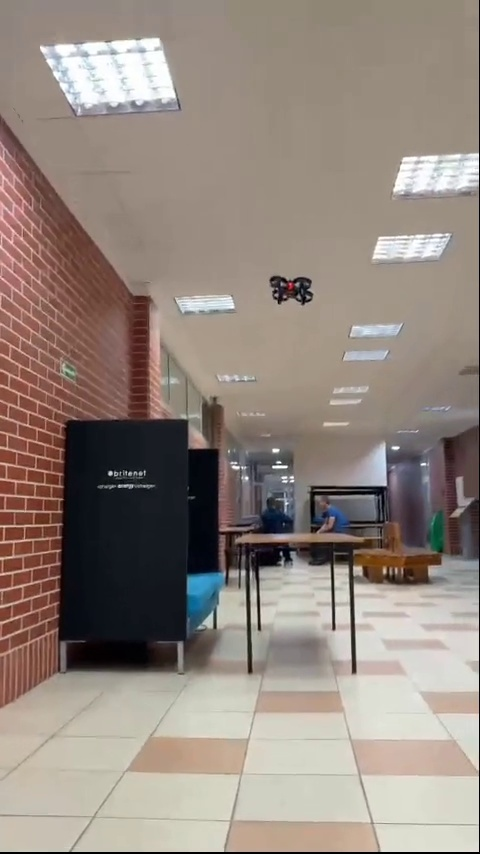drone: (271, 272, 314, 302)
no vest: (307, 493, 351, 535), (256, 491, 294, 532)
